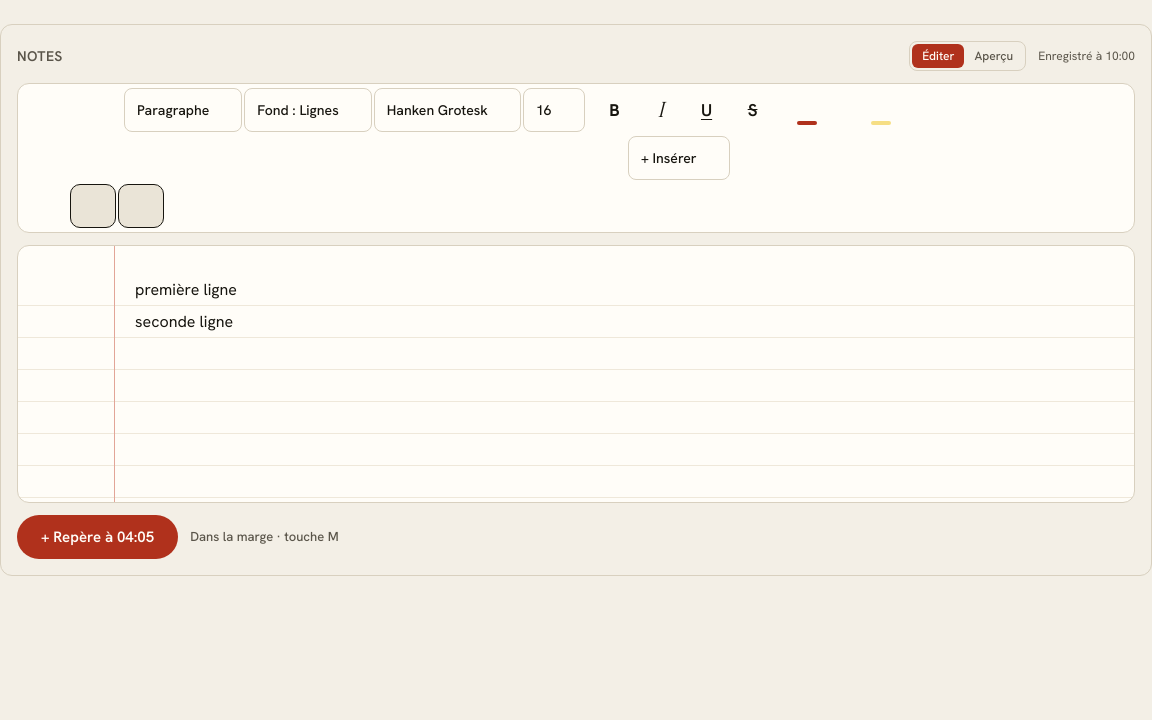
Scenario: timestamped markers (YC-56) › « + Repère » timestamps the line of the cursor at the player position, and saves it
Expected: the field named "Note de la vidéo" shows "première", x1=135 y1=279 x2=237 y2=332
Click the button "+ Repère à 04:05".
click(98, 537)  # box x1=17 y1=515 x2=178 y2=559
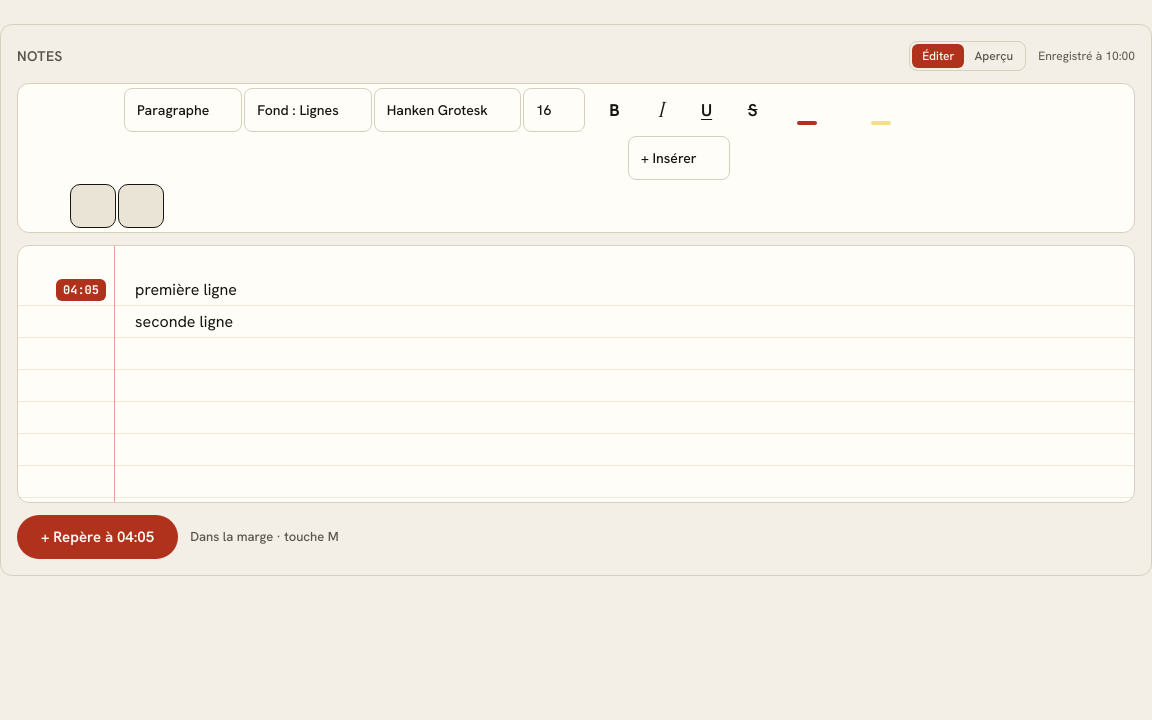
Result: the button named "Aller à 04:05 dans la vidéo" is shown at x1=56 y1=279 x2=106 y2=301
